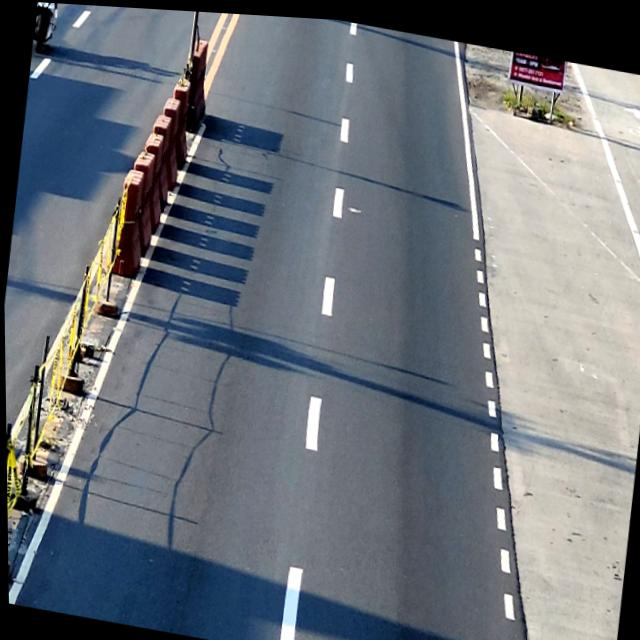Motorcycle: (31, 1, 61, 54)
